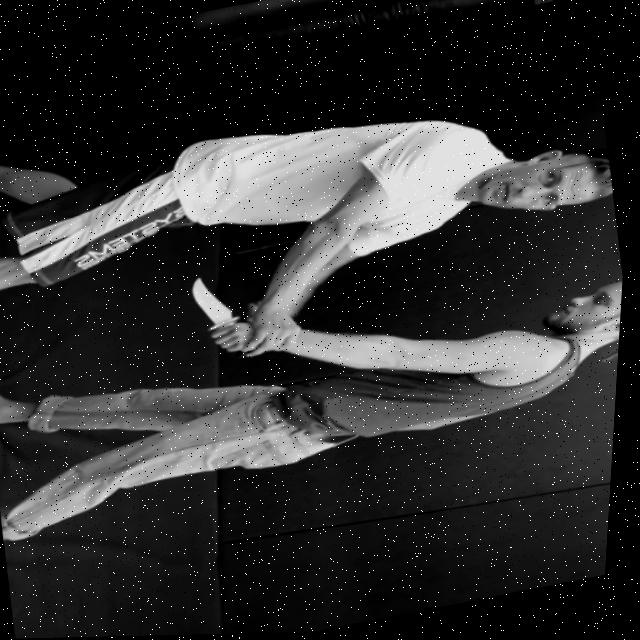knife: (177, 270, 249, 340)
